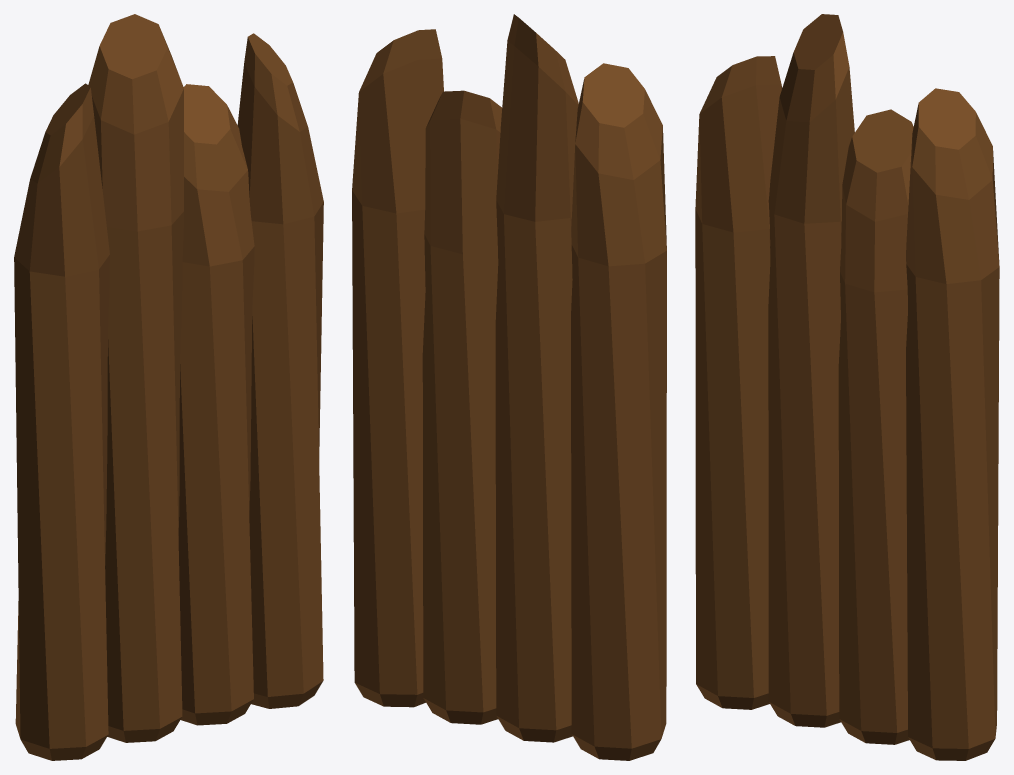
The model's file is E_B_FenceB.fbx.
3 renders of one model, left to right at view 1: azimuth 30°, elevation 25°; view 2: azimuth 150°, elevation 25°; view 3: azimuth 330°, elevation 25°, orthographic. The views are drawn at different scales.
Parts seen in each view (by area): view 1: E_B_FenceB; view 2: E_B_FenceB; view 3: E_B_FenceB.
Boxes of the visible parts, x1,y1,x2,y2 form: E_B_FenceB: (14,14,323,760); E_B_FenceB: (352,14,666,760); E_B_FenceB: (695,14,999,760).
Bounding box in the file's own units: 195 × 439 × 54.51.
